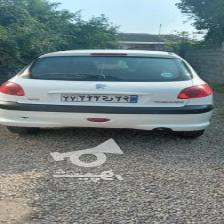plate: (58, 94, 141, 103)
